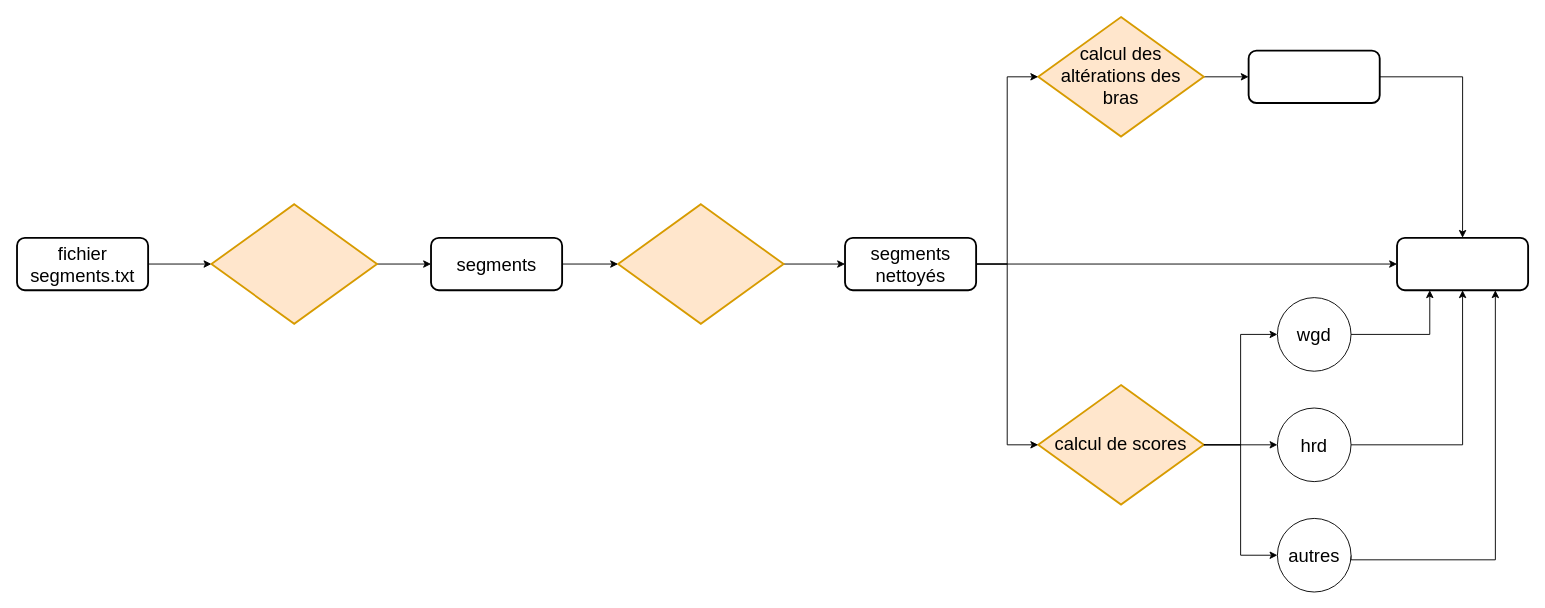
This 1545x608 diagram has some shape labels left out. Here are the shapes that lost their labels. From the top down, the centre of each, then its label:
At point 1313,76: "altérations des bras".
At point 293,263: "chargement".
At point 700,263: "filtrage & lissage".
At point 1462,263: "Objet résultat".
